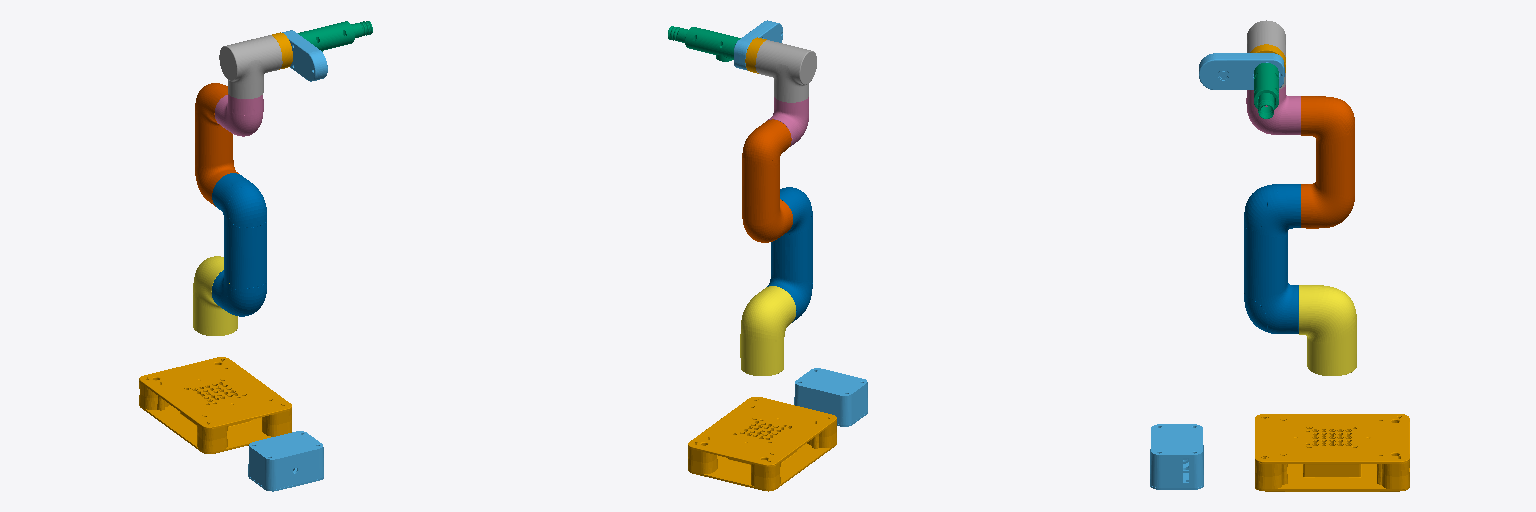
The robot description file, URDF, robot "firefighter":
<?xml version='1.0' encoding='utf-8'?>
<robot name="firefighter">
  <link name="g_base">
    <!-- placeholder inertial added by normalize_urdf.py - replace with CAD values -->
    <inertial>
      <origin xyz="0 0 0" rpy="0 0 0" />
      <mass value="0.1" />
      <inertia ixx="3.600e-05" ixy="0" ixz="0" iyy="3.600e-05" iyz="0" izz="3.600e-05" />
    </inertial>
    <visual>
      <geometry>
        <mesh filename="../../meshes/flat/G_base.stl" />
      </geometry>
      <origin xyz="0.0 0 -0.03" rpy="0 0 1.5708" />
    </visual>
    <collision>
      <geometry>
        <mesh filename="../../meshes/flat/G_base.stl" />
      </geometry>
      <origin xyz="0.0 0 -0.03" rpy="0 0 1.5708" />
    </collision>
  </link>
  <link name="pump_box">
    <!-- placeholder inertial added by normalize_urdf.py - replace with CAD values -->
    <inertial>
      <origin xyz="0 0 0" rpy="0 0 0" />
      <mass value="0.1" />
      <inertia ixx="3.600e-05" ixy="0" ixz="0" iyy="3.600e-05" iyz="0" izz="3.600e-05" />
    </inertial>
    <visual>
      <geometry>
        <mesh filename="../../meshes/flat/pump_box.stl" />
      </geometry>
      <origin xyz="0.0 -0.15 -0.0" rpy="1.5708 3.14159 0" />
    </visual>
    <!-- collision origin aligned with visual (was copy-pasted from the mirrored link) -->
    <collision>
      <geometry>
        <mesh filename="../../meshes/flat/pump_box.stl" />
      </geometry>
      <origin xyz="0.0 -0.15 -0.0" rpy="1.5708 3.14159 0" />
    </collision>
  </link>
  <link name="joint1">
    <!-- placeholder inertial added by normalize_urdf.py - replace with CAD values -->
    <inertial>
      <origin xyz="0 0 0" rpy="0 0 0" />
      <mass value="0.1" />
      <inertia ixx="3.600e-05" ixy="0" ixz="0" iyy="3.600e-05" iyz="0" izz="3.600e-05" />
    </inertial>
    <visual>
      <geometry>
        <!--- 0.0 0 -0.04  1.5708 3.14159-->
        <mesh filename="../../meshes/flat/joint1_pi.stl" />
      </geometry>
      <origin xyz="0.0 0 0 " rpy=" 0 0 0" />
    </visual>
    <collision>
      <geometry>
        <!--- 0.0 0 -0.04  1.5708 3.14159-->
        <mesh filename="../../meshes/flat/joint1_pi.stl" />
      </geometry>
      <origin xyz="0.0 0 0 " rpy=" 0 0 0" />
    </collision>
  </link>
  <link name="joint2">
    <!-- placeholder inertial added by normalize_urdf.py - replace with CAD values -->
    <inertial>
      <origin xyz="0 0 0" rpy="0 0 0" />
      <mass value="0.1" />
      <inertia ixx="3.600e-05" ixy="0" ixz="0" iyy="3.600e-05" iyz="0" izz="3.600e-05" />
    </inertial>
    <visual>
      <geometry>
        <mesh filename="../../meshes/joint2.dae" />
      </geometry>
      <origin xyz="0.0 0 -0.06096 " rpy=" 0 0 -1.5708" />
    </visual>
    <collision>
      <geometry>
        <mesh filename="../../meshes/joint2.dae" />
      </geometry>
      <origin xyz="0.0 0 -0.06096 " rpy=" 0 0 -1.5708" />
    </collision>
  </link>
  <link name="joint3">
    <!-- placeholder inertial added by normalize_urdf.py - replace with CAD values -->
    <inertial>
      <origin xyz="0 0 0" rpy="0 0 0" />
      <mass value="0.1" />
      <inertia ixx="3.600e-05" ixy="0" ixz="0" iyy="3.600e-05" iyz="0" izz="3.600e-05" />
    </inertial>
    <visual>
      <geometry>
        <mesh filename="../../meshes/joint3.dae" />
      </geometry>
      <origin xyz="0.0 0 0.03256 " rpy=" 0 -1.5708 0" />
    </visual>
    <collision>
      <geometry>
        <mesh filename="../../meshes/joint3.dae" />
      </geometry>
      <origin xyz="0.0 0 0.03256 " rpy=" 0 -1.5708 0" />
    </collision>
  </link>
  <link name="joint4">
    <!-- placeholder inertial added by normalize_urdf.py - replace with CAD values -->
    <inertial>
      <origin xyz="0 0 0" rpy="0 0 0" />
      <mass value="0.1" />
      <inertia ixx="3.600e-05" ixy="0" ixz="0" iyy="3.600e-05" iyz="0" izz="3.600e-05" />
    </inertial>
    <visual>
      <geometry>
        <!--- 0.0 0 -0.04 -->
        <mesh filename="../../meshes/joint4.dae" />
      </geometry>
      <origin xyz="0.0 0 0.03056 " rpy=" 0 -1.5708 0" />
    </visual>
    <collision>
      <geometry>
        <!--- 0.0 0 -0.04 -->
        <mesh filename="../../meshes/joint4.dae" />
      </geometry>
      <origin xyz="0.0 0 0.03056 " rpy=" 0 -1.5708 0" />
    </collision>
  </link>
  <link name="joint5">
    <!-- placeholder inertial added by normalize_urdf.py - replace with CAD values -->
    <inertial>
      <origin xyz="0 0 0" rpy="0 0 0" />
      <mass value="0.1" />
      <inertia ixx="3.600e-05" ixy="0" ixz="0" iyy="3.600e-05" iyz="0" izz="3.600e-05" />
    </inertial>
    <visual>
      <geometry>
        <!--- 0.0 0 -0.04 -->
        <mesh filename="../../meshes/flat/joint5.stl" />
      </geometry>
      <origin xyz="0.0 -0.001 -0.0345 " rpy=" 0 -1.5708 1.5708" />
    </visual>
    <collision>
      <geometry>
        <!--- 0.0 0 -0.04 -->
        <mesh filename="../../meshes/flat/joint5.stl" />
      </geometry>
      <origin xyz="0.0 -0.001 -0.0345 " rpy=" 0 -1.5708 1.5708" />
    </collision>
  </link>
  <link name="joint6">
    <!-- placeholder inertial added by normalize_urdf.py - replace with CAD values -->
    <inertial>
      <origin xyz="0 0 0" rpy="0 0 0" />
      <mass value="0.1" />
      <inertia ixx="3.600e-05" ixy="0" ixz="0" iyy="3.600e-05" iyz="0" izz="3.600e-05" />
    </inertial>
    <visual>
      <geometry>
        <!--- 0.0 0 -0.04 -->
        <mesh filename="../../meshes/joint6.dae" />
      </geometry>
      <origin xyz="0 0.00 -0.038 " rpy=" 0 0 0" />
    </visual>
    <collision>
      <geometry>
        <!--- 0.0 0 -0.04 -->
        <mesh filename="../../meshes/joint6.dae" />
      </geometry>
      <origin xyz="0 0.00 -0.038 " rpy=" 0 0 0" />
    </collision>
  </link>
  <link name="joint6_flange">
    <!-- placeholder inertial added by normalize_urdf.py - replace with CAD values -->
    <inertial>
      <origin xyz="0 0 0" rpy="0 0 0" />
      <mass value="0.1" />
      <inertia ixx="3.600e-05" ixy="0" ixz="0" iyy="3.600e-05" iyz="0" izz="3.600e-05" />
    </inertial>
    <visual>
      <geometry>
        <!--- 0.0 0 -0.04 -->
        <mesh filename="../../meshes/joint7.dae" />
      </geometry>
      <origin xyz="0.0 0 -0.012 " rpy=" 0 0 0" />
    </visual>
    <collision>
      <geometry>
        <!--- 0.0 0 -0.04 -->
        <mesh filename="../../meshes/joint7.dae" />
      </geometry>
      <origin xyz="0.0 0 -0.012 " rpy=" 0 0 0" />
    </collision>
  </link>
  <link name="camera_flange">
    <!-- placeholder inertial added by normalize_urdf.py - replace with CAD values -->
    <inertial>
      <origin xyz="0 0 0" rpy="0 0 0" />
      <mass value="0.1" />
      <inertia ixx="3.600e-05" ixy="0" ixz="0" iyy="3.600e-05" iyz="0" izz="3.600e-05" />
    </inertial>
    <visual>
      <geometry>
        <mesh filename="../../meshes/flat/camera_flange.stl" />
      </geometry>
      <origin xyz="0.024 -0.008 0.0 " rpy=" 0 3.14159 0" />
    </visual>
    <collision>
      <geometry>
        <mesh filename="../../meshes/flat/camera_flange.stl" />
      </geometry>
      <origin xyz="0.024 -0.008 0.0 " rpy=" 0 3.14159 0" />
    </collision>
  </link>
  <link name="pump_head">
    <!-- placeholder inertial added by normalize_urdf.py - replace with CAD values -->
    <inertial>
      <origin xyz="0 0 0" rpy="0 0 0" />
      <mass value="0.1" />
      <inertia ixx="3.600e-05" ixy="0" ixz="0" iyy="3.600e-05" iyz="0" izz="3.600e-05" />
    </inertial>
    <visual>
      <geometry>
        <mesh filename="../../meshes/flat/pump_head.stl" />
      </geometry>
      <origin xyz="0.0 0.008 0.009 " rpy=" 1.5708 0 0" />
    </visual>
    <collision>
      <geometry>
        <mesh filename="../../meshes/flat/pump_head.stl" />
      </geometry>
      <origin xyz="0.0 0.008 0.009 " rpy=" 1.5708 0 0" />
    </collision>
  </link>
  <joint name="g_base_to_joint1" type="fixed">
    <axis xyz="0 0 0" />
    <limit effort="1000.0" lower="-3.14" upper="3.14159" velocity="0" />
    <parent link="g_base" />
    <child link="joint1" />
    <origin xyz="0 0 0" rpy="0 0 0" />
  </joint>
  <joint name="g_base_to_pump_box" type="fixed">
    <axis xyz="0 0 0" />
    <limit effort="1000.0" lower="-3.14" upper="3.14159" velocity="0" />
    <parent link="g_base" />
    <child link="pump_box" />
    <origin xyz="0 0 0" rpy="0 0 0" />
  </joint>
  <joint name="joint2_to_joint1" type="revolute">
    <axis xyz="0 0 1" />
    <limit effort="1000.0" lower="-2.9322" upper="2.9322" velocity="2" />
    <parent link="joint1" />
    <child link="joint2" />
    <origin xyz="0 0 0.13956" rpy="0 0 0" />
  </joint>
  <joint name="joint3_to_joint2" type="revolute">
    <axis xyz="0 0 1" />
    <limit effort="1000.0" lower="-2.3562" upper="2.3562" velocity="2" />
    <parent link="joint2" />
    <child link="joint3" />
    <origin xyz="0 0 -0.001" rpy="0 1.5708 -1.5708" />
  </joint>
  <joint name="joint4_to_joint3" type="revolute">
    <axis xyz=" 0 0 1" />
    <limit effort="1000.0" lower="-2.618" upper="2.618" velocity="2" />
    <parent link="joint3" />
    <child link="joint4" />
    <origin xyz="  -0.1104 0 0   " rpy="0 0 0" />
  </joint>
  <joint name="joint5_to_joint4" type="revolute">
    <axis xyz=" 0 0 1" />
    <limit effort="1000.0" lower="-2.5307" upper="2.5307" velocity="2" />
    <parent link="joint4" />
    <child link="joint5" />
    <origin xyz="-0.096 0 0.06462" rpy="0 0 -1.5708" />
  </joint>
  <joint name="joint6_to_joint5" type="revolute">
    <axis xyz="0 0 1" />
    <limit effort="1000.0" lower="-2.8798" upper="2.8798" velocity="2" />
    <parent link="joint5" />
    <child link="joint6" />
    <origin xyz="0 -0.07318 -0.001" rpy="1.5708 -1.5708 0" />
  </joint>
  <joint name="joint6output_to_joint6" type="revolute">
    <axis xyz="0 0 1" />
    <limit effort="1000.0" lower="-3.14159" upper="3.14159" velocity="2" />
    <parent link="joint6" />
    <child link="joint6_flange" />
    <origin xyz="0 0.0456 0" rpy="-1.5708 0 0" />
  </joint>
  <joint name="joint6output_to_camera_flange" type="fixed">
    <!-- <axis xyz="0 0 1"/>
    <limit effort = "1000.0" lower = "-3.14" upper = "3.14159" velocity = "0"/> -->
    <parent link="joint6_flange" />
    <child link="camera_flange" />
    <!-- <origin xyz= "0 0.0 0" rpy = "-1.5708 0 0"/>   -->
    <origin xyz="0 0 0.01" rpy="1.579 0 0" />
  </joint>
  <joint name="joint6output_to_pump_head" type="fixed">
    <!-- <axis xyz="0 0 1"/>
    <limit effort = "1000.0" lower = "-3.14" upper = "3.14159" velocity = "0"/> -->
    <parent link="camera_flange" />
    <child link="pump_head" />
    <!-- <origin xyz= "0 0.0 0" rpy = "-1.5708 0 0"/>   -->
    <origin xyz="0 0 0.01" rpy="-1.579 0 0" />
  </joint>
</robot>

--- Render facts (derived) ---
3 views of the same robot in one strip: view 1: azimuth 30°, elevation 25°; view 2: azimuth 150°, elevation 25°; view 3: azimuth 270°, elevation 25° (orthographic).
Model firefighter with 11 links and 10 joints (6 revolute, 4 fixed), rooted at g_base, posed all joints at 0.
Links seen in each view (by area): view 1: g_base, joint3, pump_box, joint4, joint6, joint2, joint5, pump_head, camera_flange; view 2: g_base, joint4, joint2, joint3, pump_box, joint6, pump_head, joint5, camera_flange; view 3: g_base, joint3, joint4, joint2, pump_box, camera_flange, joint5, pump_head, joint6.
Link boxes in pixels (x1=…): g_base: x1=139, y1=357, x2=291, y2=453; joint3: x1=212, y1=173, x2=266, y2=316; pump_box: x1=248, y1=431, x2=323, y2=491; joint4: x1=195, y1=83, x2=238, y2=206; joint6: x1=219, y1=35, x2=282, y2=98; joint2: x1=193, y1=256, x2=237, y2=335; joint5: x1=215, y1=94, x2=263, y2=136; pump_head: x1=298, y1=21, x2=372, y2=51; camera_flange: x1=282, y1=30, x2=327, y2=81; g_base: x1=688, y1=397, x2=836, y2=491; joint4: x1=742, y1=119, x2=792, y2=242; joint2: x1=740, y1=286, x2=795, y2=375; joint3: x1=767, y1=187, x2=812, y2=322; pump_box: x1=794, y1=368, x2=867, y2=426; joint6: x1=755, y1=40, x2=816, y2=102; pump_head: x1=668, y1=26, x2=740, y2=61; joint5: x1=767, y1=97, x2=808, y2=146; camera_flange: x1=734, y1=20, x2=782, y2=70; g_base: x1=1255, y1=414, x2=1409, y2=491; joint3: x1=1244, y1=184, x2=1300, y2=333; joint4: x1=1301, y1=96, x2=1354, y2=228; joint2: x1=1299, y1=285, x2=1356, y2=375; pump_box: x1=1150, y1=424, x2=1203, y2=489; camera_flange: x1=1199, y1=53, x2=1284, y2=89; joint5: x1=1246, y1=85, x2=1300, y2=134; pump_head: x1=1254, y1=63, x2=1278, y2=118; joint6: x1=1247, y1=20, x2=1285, y2=88.
Bounding box of the posed robot: 0.2067 × 0.251 × 0.4743 m (x, y, z).
10 mesh visuals loaded from 11 distinct referenced files (5 binary STL, 5 Collada DAE); not drawn: 1 (reference not matched to a file when rendering).
